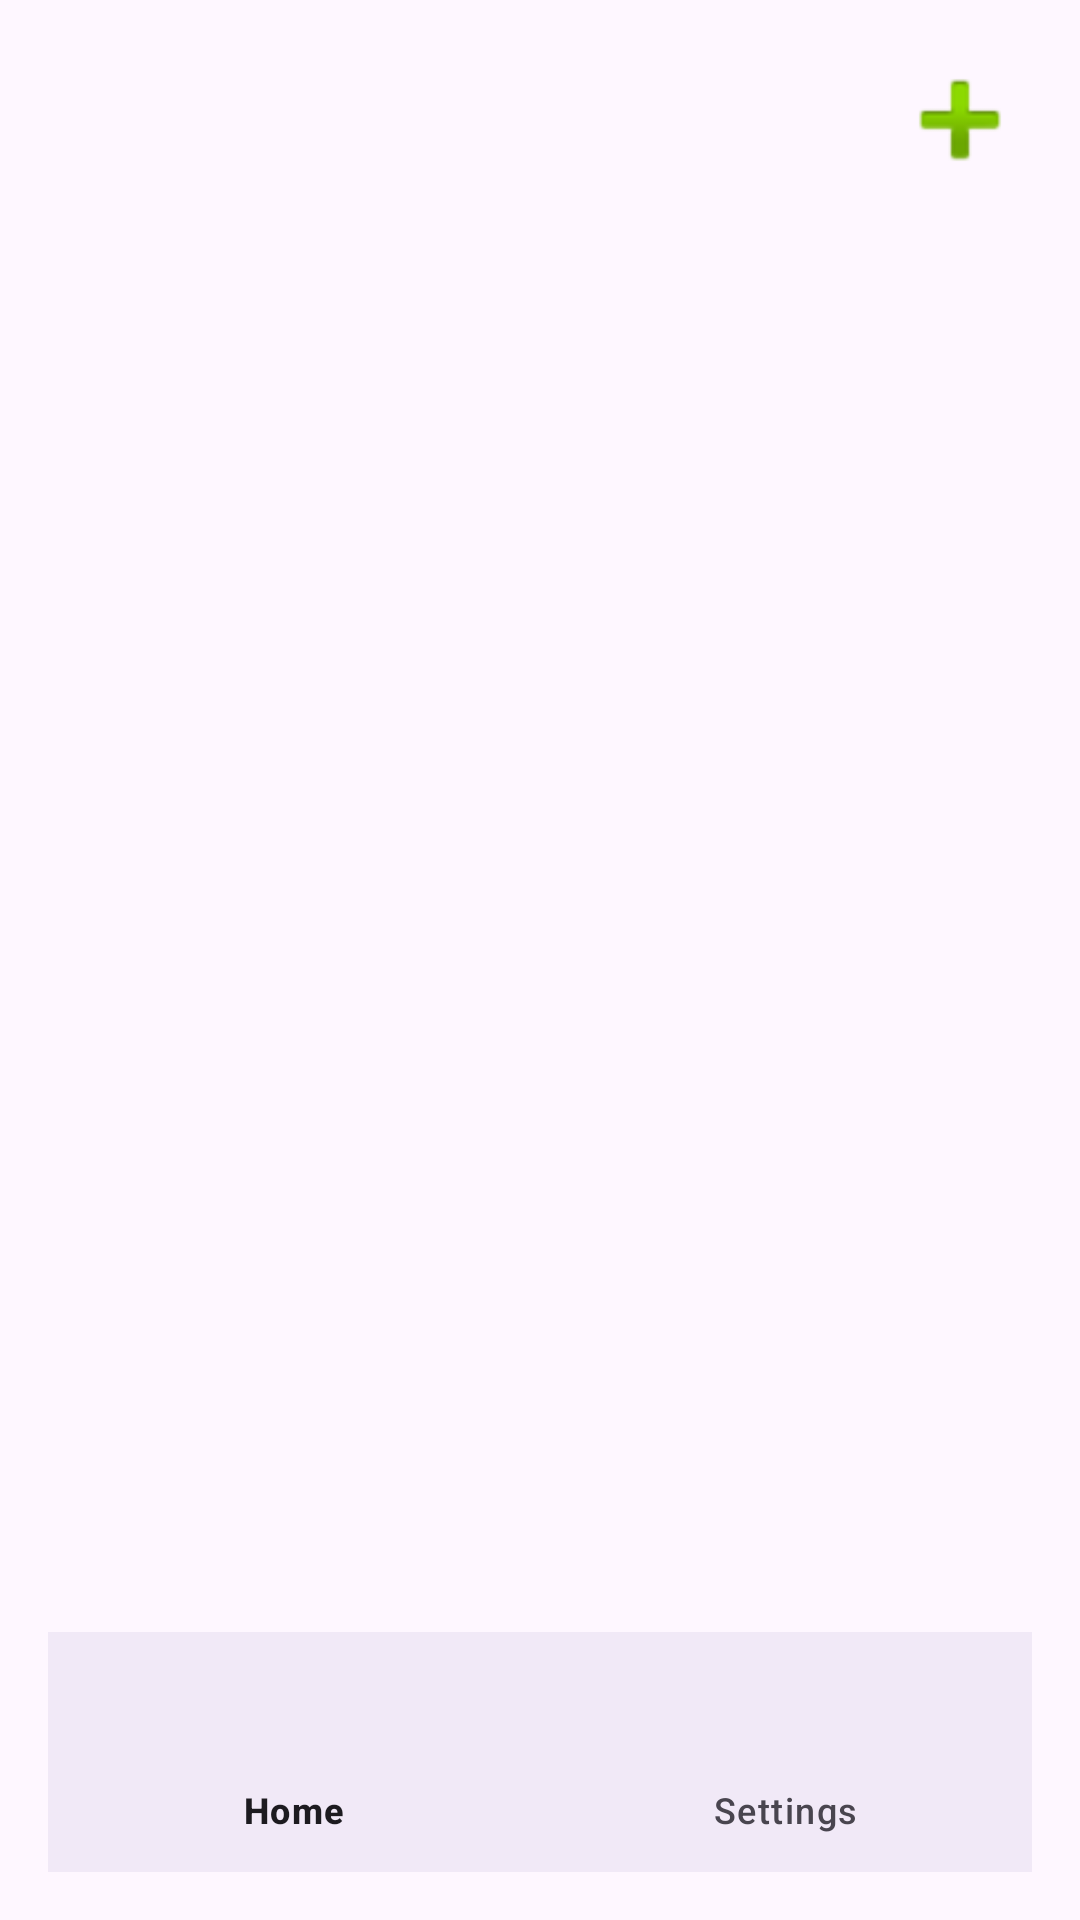

Icons on this 1080 x 1920 Android screen, each with its box as (x1, y1, x2, y2):
Add new item: (919, 79, 1001, 161)
